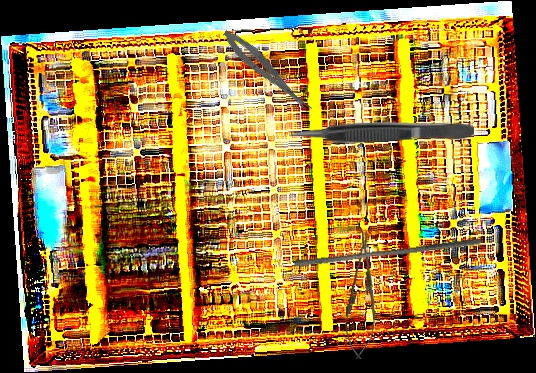Micro Scissor: (218, 24, 316, 120)
Needle Holder: (343, 230, 381, 360)
Pusher: (293, 230, 483, 274)
Tissue Forceps: (289, 122, 474, 144)
